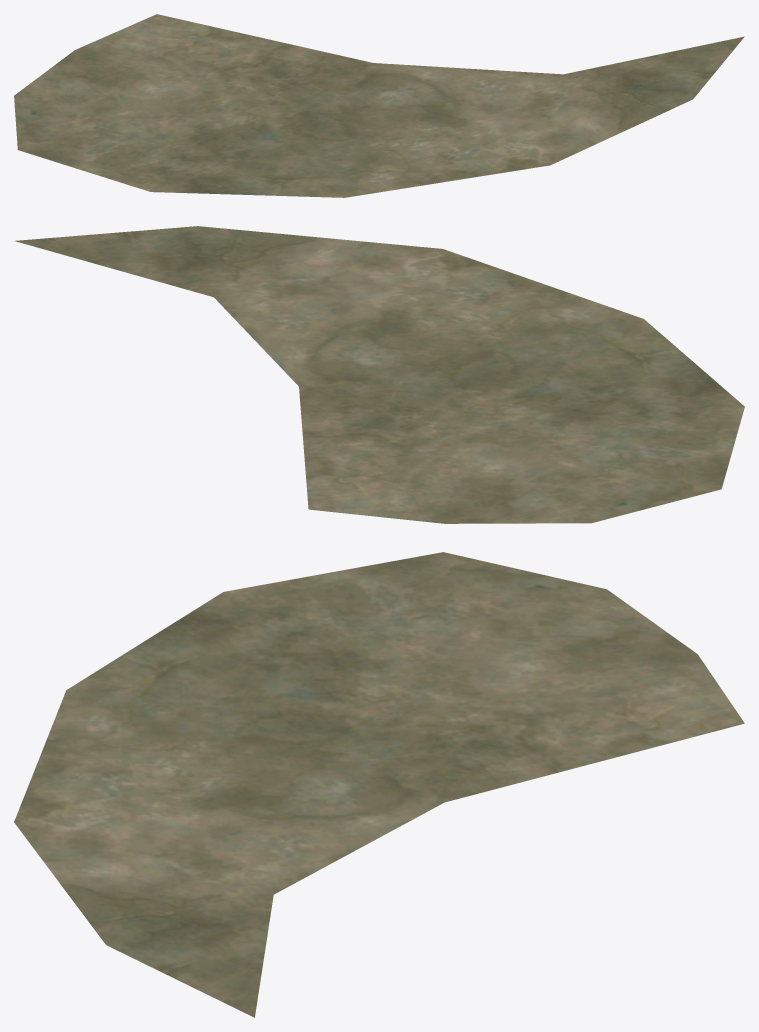
Rendered from OVERHILL_A_01_GROUND27.fbx.
The picture shows the model from 3 angles, top to bottom: view 1: azimuth 30°, elevation 25°; view 2: azimuth 150°, elevation 25°; view 3: azimuth 270°, elevation 25°; orthographic projection. The views are drawn at different scales.
Parts seen in each view (by area): view 1: OVERHILL_A_01_GROUND27; view 2: OVERHILL_A_01_GROUND27; view 3: OVERHILL_A_01_GROUND27.
Boxes of the visible parts, bbox=[...] form: OVERHILL_A_01_GROUND27: bbox=[14, 14, 744, 197]; OVERHILL_A_01_GROUND27: bbox=[15, 226, 744, 523]; OVERHILL_A_01_GROUND27: bbox=[14, 552, 744, 1017].
Size of the model in its own units: 30676 by 0.00331 by 20344.
Materials: 1 (1 with a texture image).
